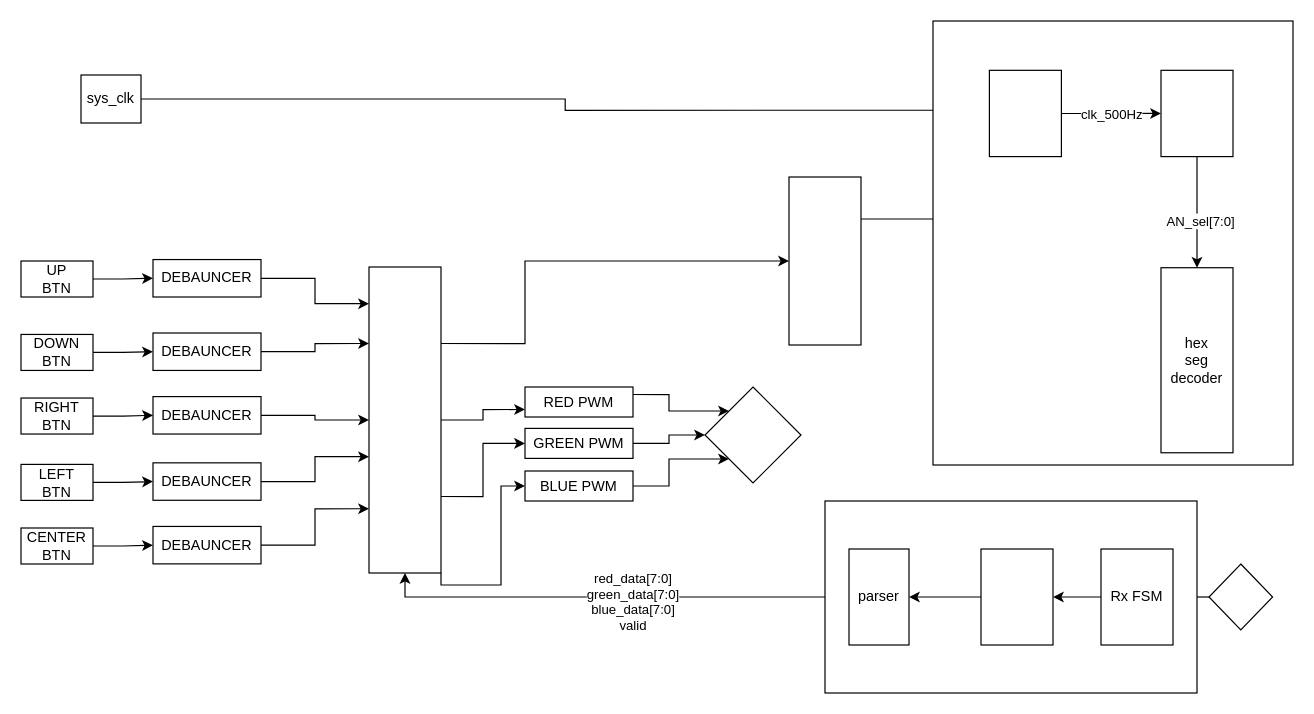
This 1314x714 diagram has some shape labels left out. Here are the shapes that lost their labels. From the top down, the centre of each, then its label:
(x=1024, y=113): div_clk 500Hz
(x=1196, y=113): AN shift reg
(x=824, y=260): disp reg
(x=404, y=419): display selection
(x=752, y=434): RGB
(x=1016, y=596): MAC FSM
(x=1240, y=596): rx_data
